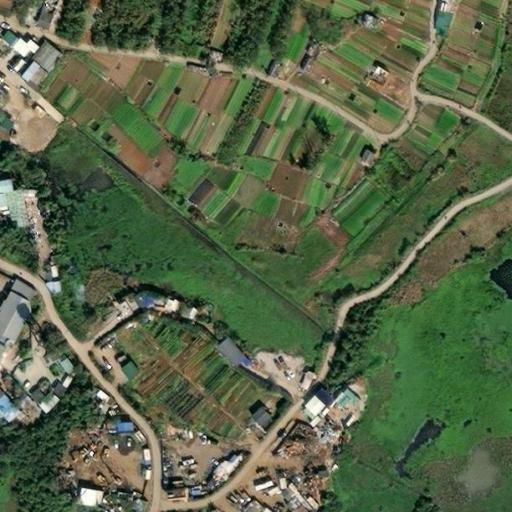building: (190, 455, 232, 496), (149, 373, 189, 415), (299, 380, 338, 419), (212, 331, 249, 369), (19, 39, 55, 76), (330, 381, 363, 414), (246, 399, 275, 428), (169, 422, 207, 444), (31, 0, 58, 29), (154, 452, 184, 478), (1, 35, 27, 61), (111, 357, 136, 384), (26, 392, 52, 417), (52, 350, 77, 376), (294, 364, 317, 389), (70, 489, 95, 509), (156, 488, 182, 503), (156, 295, 176, 314), (108, 301, 126, 321), (129, 301, 150, 318), (30, 352, 50, 368), (33, 281, 56, 294), (39, 254, 51, 278), (43, 383, 59, 400), (7, 395, 23, 411), (176, 305, 192, 321), (109, 420, 126, 431), (108, 492, 124, 502), (0, 179, 10, 193), (20, 40, 30, 49)
